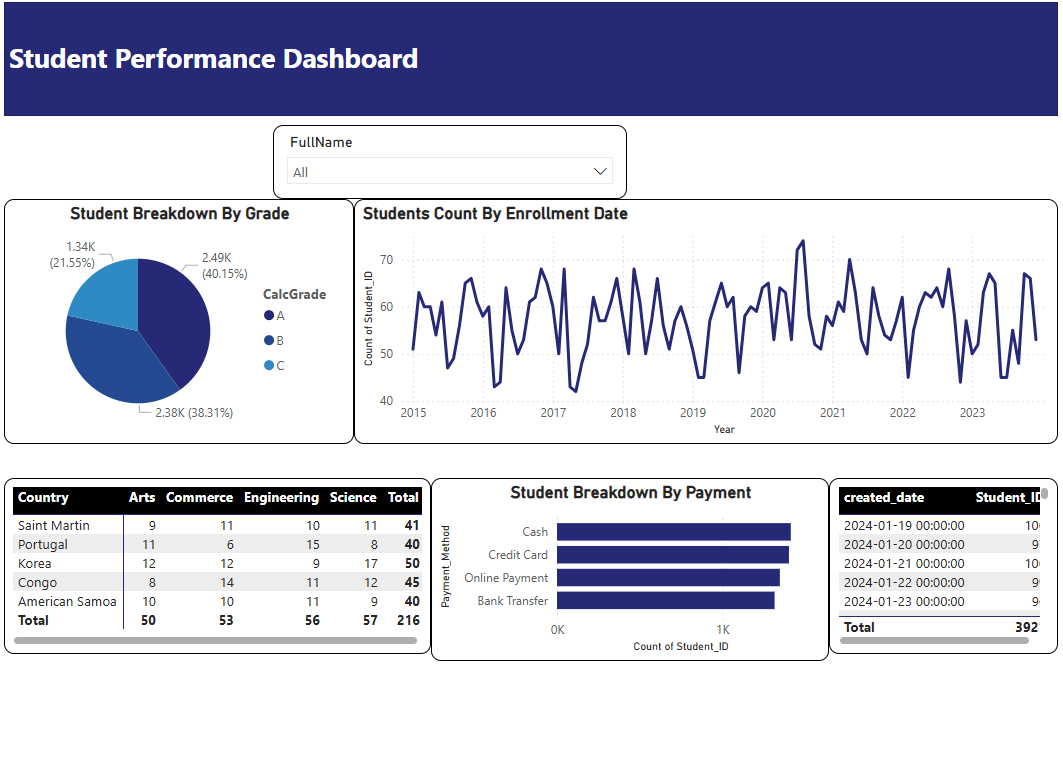

The page's visual inventory and layout, read from the dashboard file:
{"tool":"powerbi","page":{"name":"Basic Level","canvas":[1280,720],"ordinal":0},"visuals":[{"type":"pieChart","title":"Student Breakdown By Grade","fields":{"Category":["mydatabase exams_data.CalcGrade"],"Y":["CountNonNull(mydatabase exams_data.Student_ID)"]},"box":[0,197,350,245],"z":0},{"type":"shape","box":[0,0,1054,114],"z":1000},{"type":"textbox","box":[869,114,411,279],"z":2000},{"type":"textbox","box":[0,32,446,50],"z":3000},{"type":"lineChart","title":"Students Count By Enrollment Date","fields":{"Y":["CountNonNull(mydatabase student_data.Student_ID)"],"Category":["mydatabase student_data.Enrollment_Date.Variation.Date Hierarchy.Year","mydatabase student_data.Enrollment_Date.Variation.Date Hierarchy.Month"]},"box":[350,197,704,245],"z":4000},{"type":"pivotTable","fields":{"Rows":["mydatabase student_data.Student_Country"],"Columns":["mydatabase student_data.Department"],"Values":["Count(mydatabase student_data.Student_ID)"]},"box":[0,476,427,176],"z":5000},{"type":"barChart","title":"Student Breakdown By Payment","fields":{"Category":["mydatabase payments_data.Payment_Method"],"Y":["Count(mydatabase payments_data.Student_ID)"]},"box":[427,476,398,183],"z":6000},{"type":"slicer","fields":{"Values":["mydatabase student_data.FullName"]},"box":[269,123,354,74],"z":7000},{"type":"tableEx","fields":{"Values":["mydatabase exams_data.created_date","mydatabase exams_data.Student_ID"]},"box":[825,476,229,176],"z":8000}]}

Visuals, with their boxes on the page's 1280x720 design canvas (x1, y1, x2, y2). These are canvas units, not pixel positions in the 1063x765 screenshot, which may show the page scaled, cropped or inside an application window:
"Student Breakdown By Grade" pieChart: l=0, t=197, r=350, b=442
shape: l=0, t=0, r=1054, b=114
textbox: l=869, t=114, r=1280, b=393
textbox: l=0, t=32, r=446, b=82
"Students Count By Enrollment Date" lineChart: l=350, t=197, r=1054, b=442
pivotTable - mydatabase student_data.Student_Country x mydatabase student_data.Department: l=0, t=476, r=427, b=652
"Student Breakdown By Payment" barChart: l=427, t=476, r=825, b=659
slicer - mydatabase student_data.FullName: l=269, t=123, r=623, b=197
tableEx - mydatabase exams_data.created_date x mydatabase exams_data.Student_ID: l=825, t=476, r=1054, b=652
